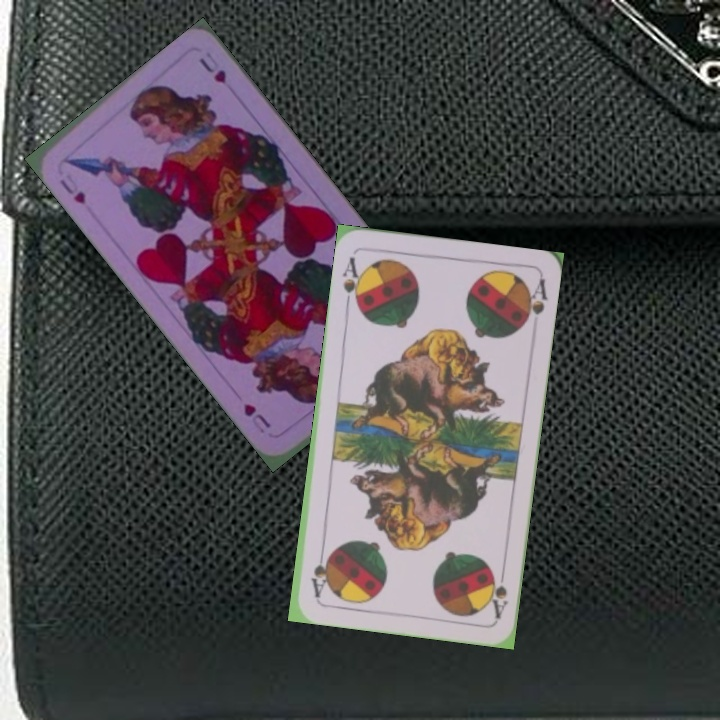HU: (56, 175, 88, 207)
SA: (338, 253, 366, 311), (484, 562, 511, 621)
